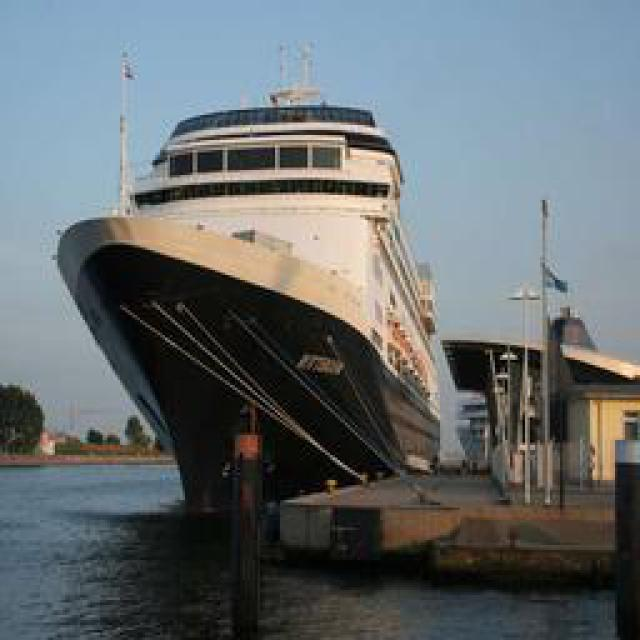Ship: (53, 66, 471, 531)
